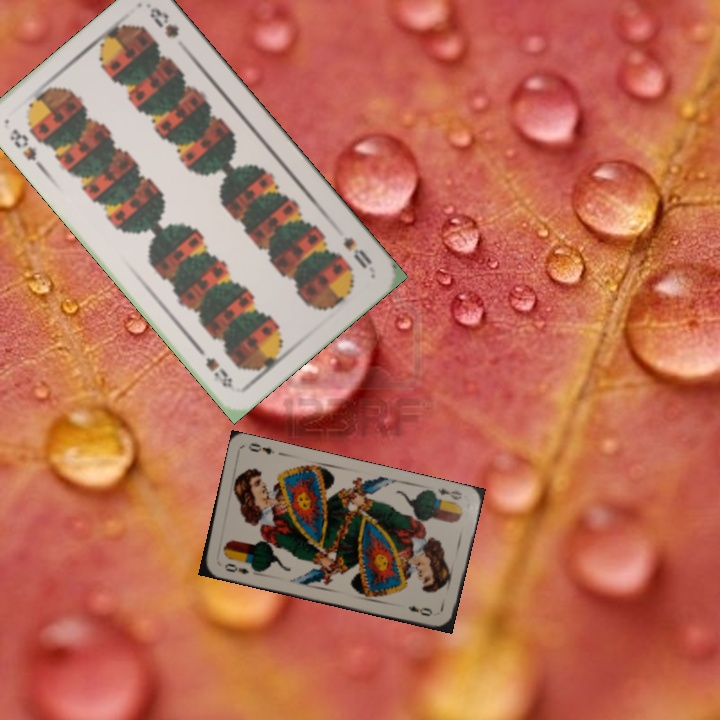EO: (434, 484, 464, 503), (221, 559, 251, 577)
S8: (5, 125, 47, 172), (339, 233, 375, 272)
